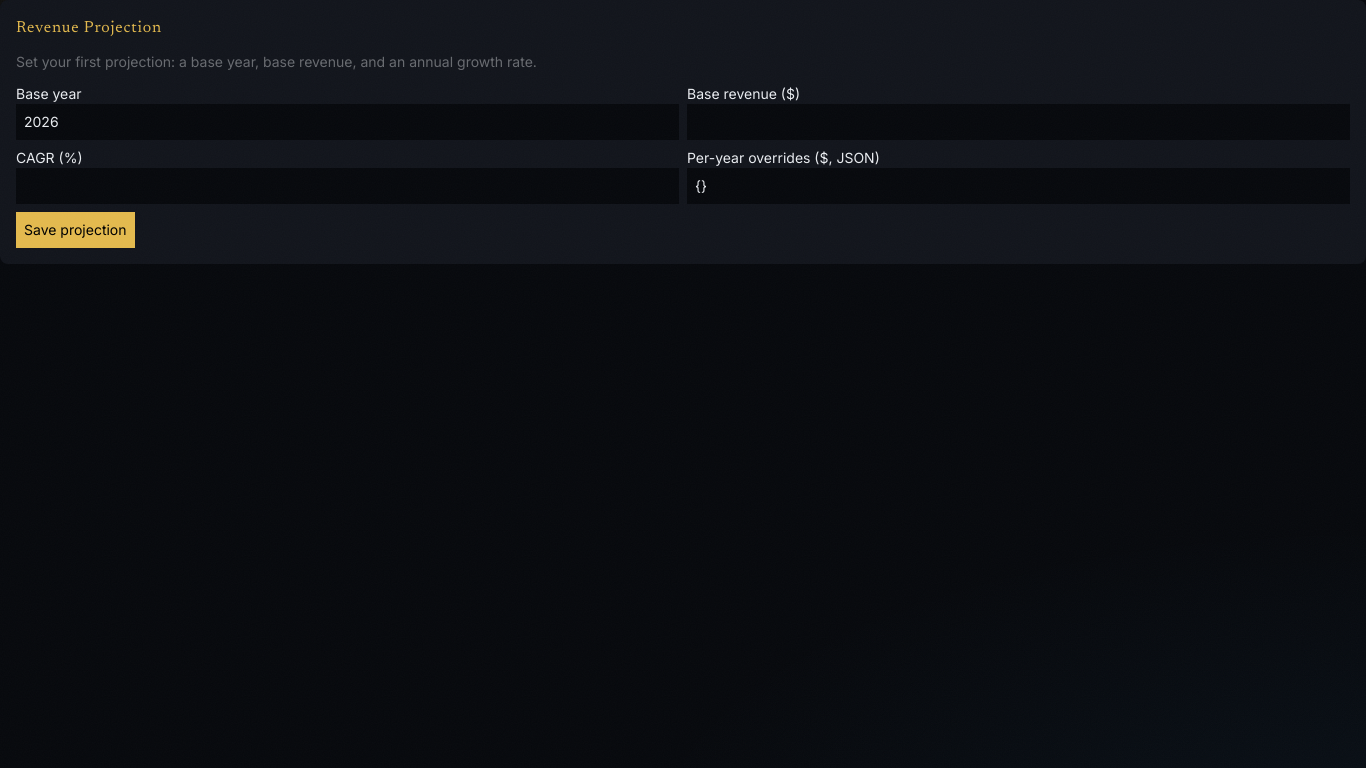
Test case: ProjectionsAdmin › surfaces an action error
Click the button "Save projection": [75, 230] box [16,212,134,248]
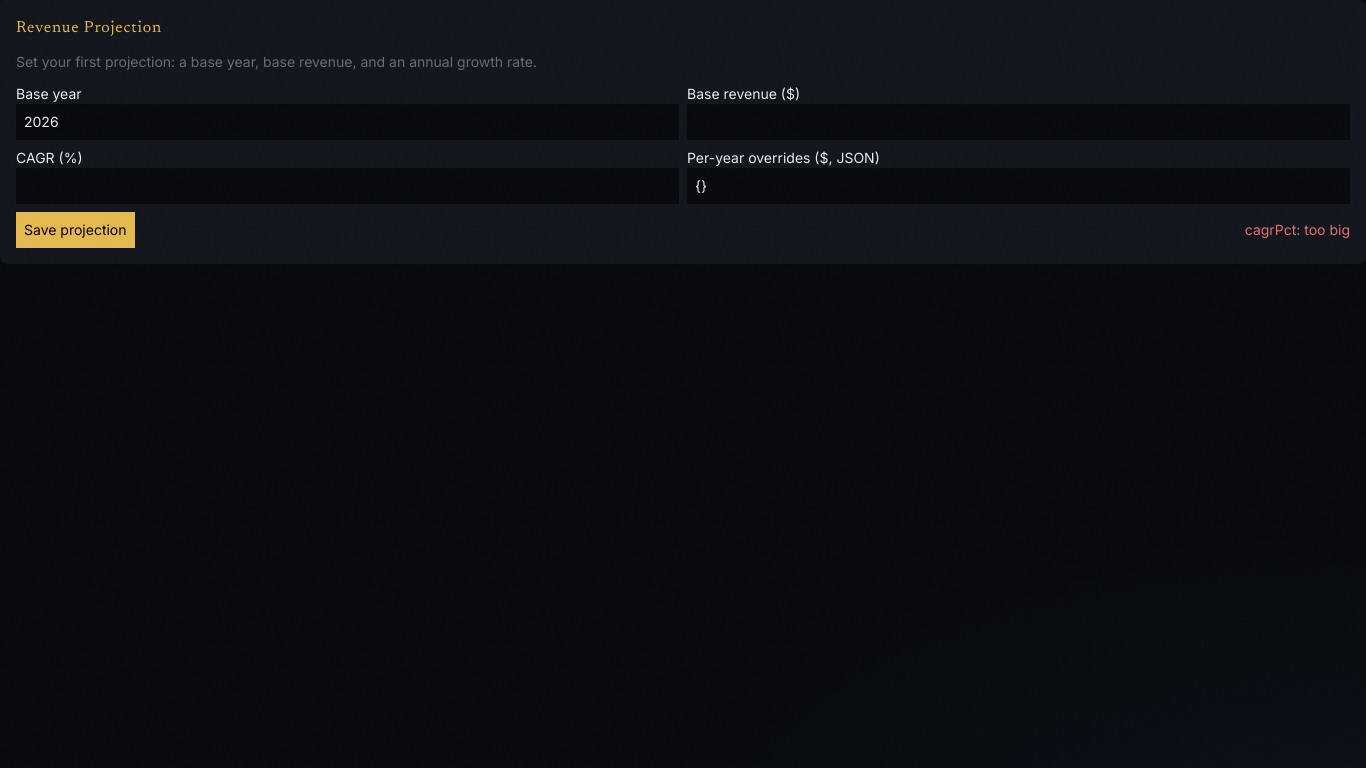
expect the message shows "too big": met, box [1245,221,1350,238]
